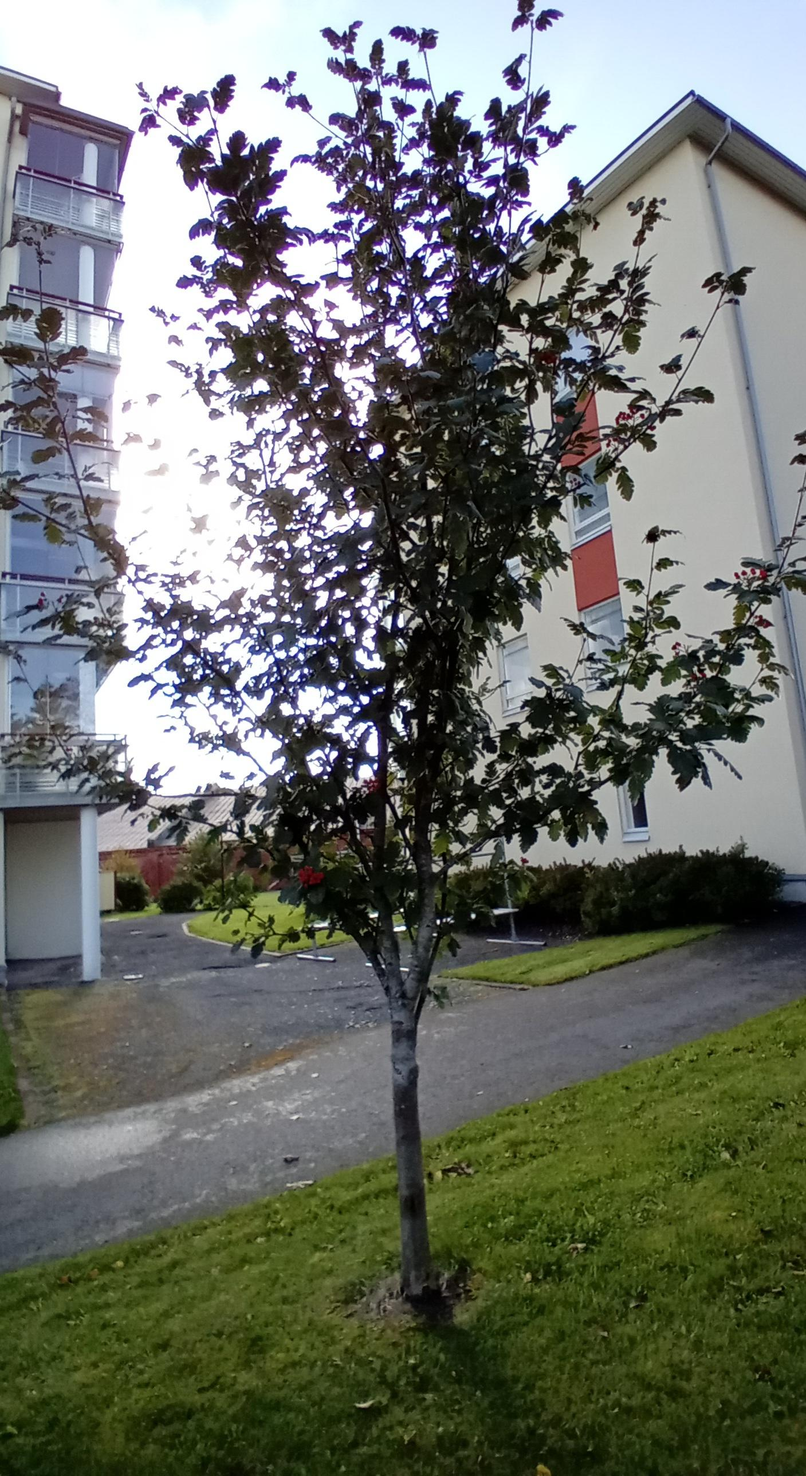Rowan: (2, 1, 804, 1310)
